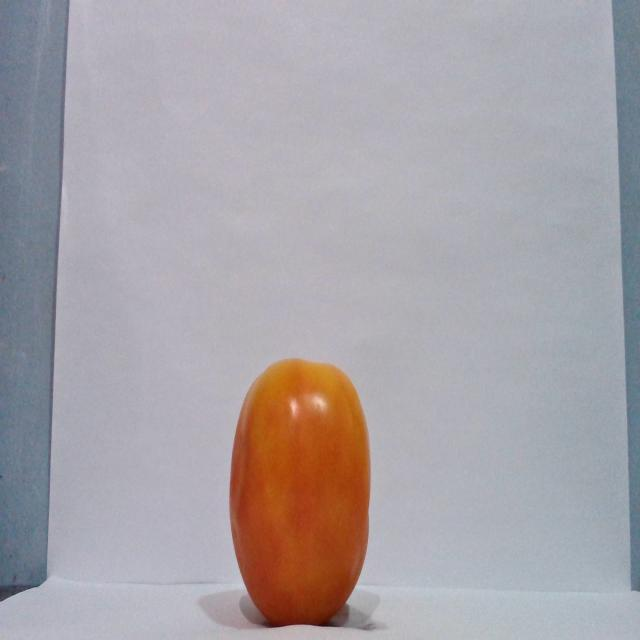Red: (227, 357, 371, 626)
